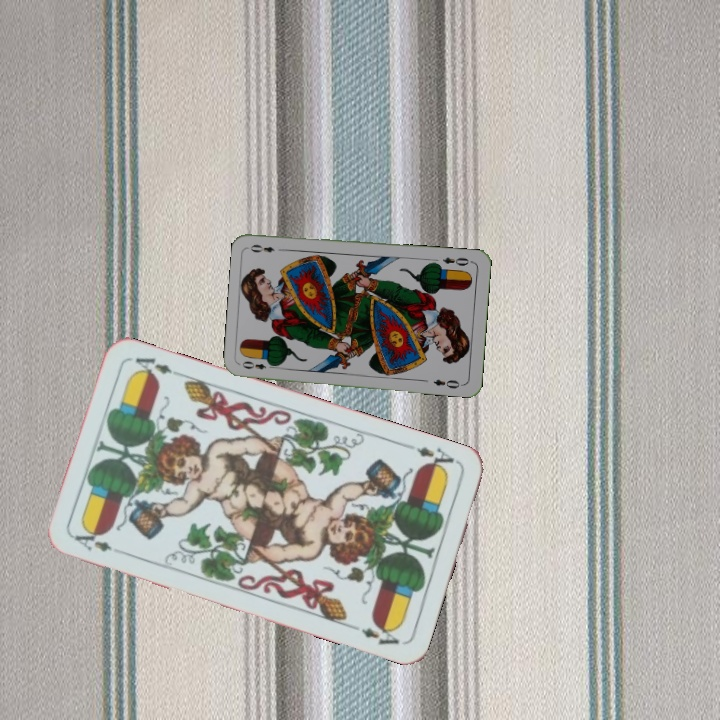EA: (412, 442, 461, 475), (69, 525, 114, 555)
EO: (238, 357, 278, 372), (439, 253, 475, 268)
